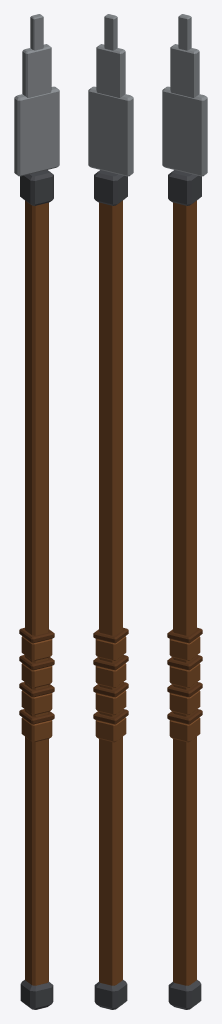
Rendered from chopper_spear.fbx.
3 views of the same model, side by side, from view 1: azimuth 30°, elevation 25°; view 2: azimuth 150°, elevation 25°; view 3: azimuth 330°, elevation 25° (orthographic).
Visible parts, largest first — view 1: chopper_spear; view 2: chopper_spear; view 3: chopper_spear.
Part boxes in pixels (<box>): chopper_spear: <box>14,14,59,1009</box>; chopper_spear: <box>88,14,133,1009</box>; chopper_spear: <box>162,14,207,1009</box>.
Bounding box in the file's own units: 0.09 × 2.01 × 0.05.
